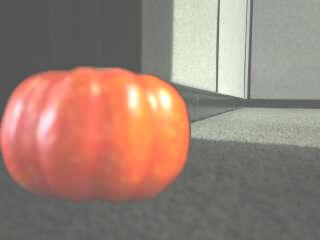Pumpkin: (0, 67, 191, 203)
